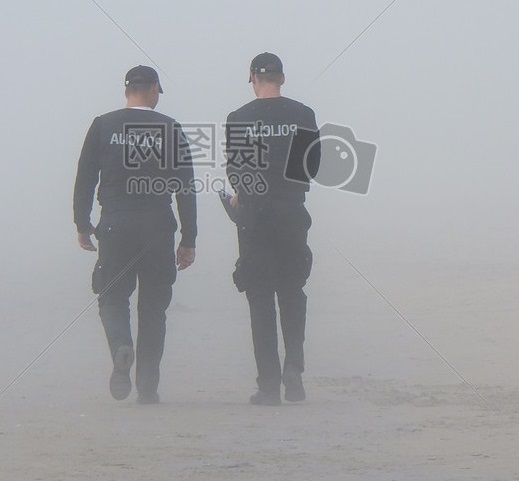person: (218, 49, 333, 408), (71, 57, 187, 405)
